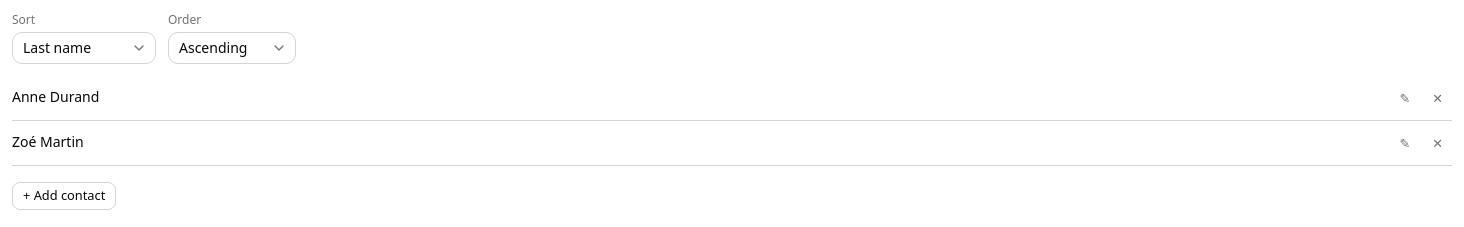
ContactsTab › sorting › re-sorts on a new field or order
Click the dropdown named "Order" at (232, 48), box x1=168 y1=32 x2=296 y2=64
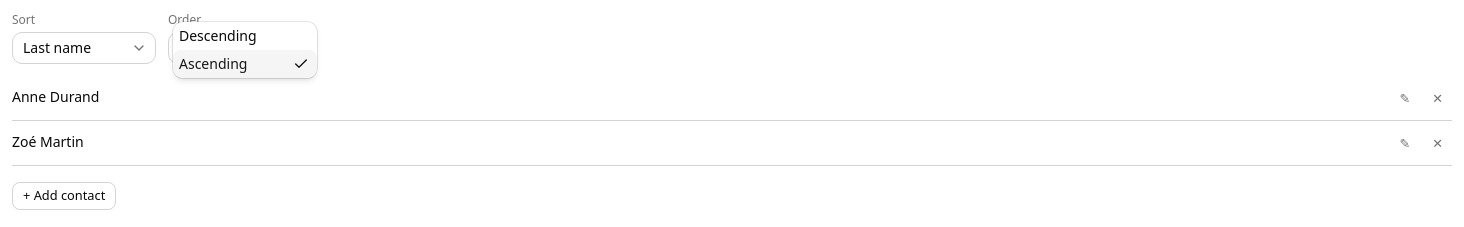
Click the option "Descending" at (218, 36), box x1=179 y1=26 x2=257 y2=45
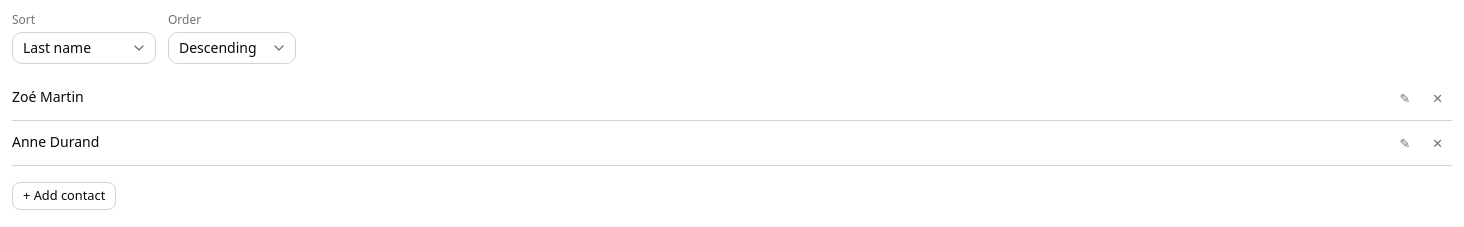
Click the dropdown named "Sort" at (84, 48), box x1=12 y1=32 x2=156 y2=64
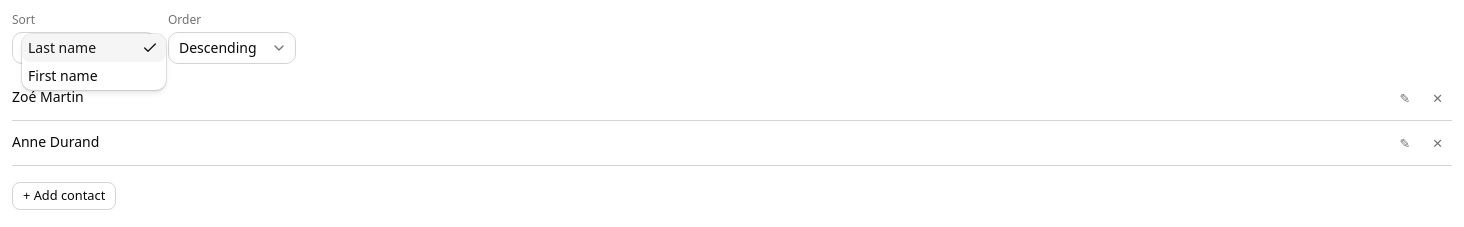
Click the option "First name" at (63, 76), box x1=28 y1=66 x2=98 y2=85
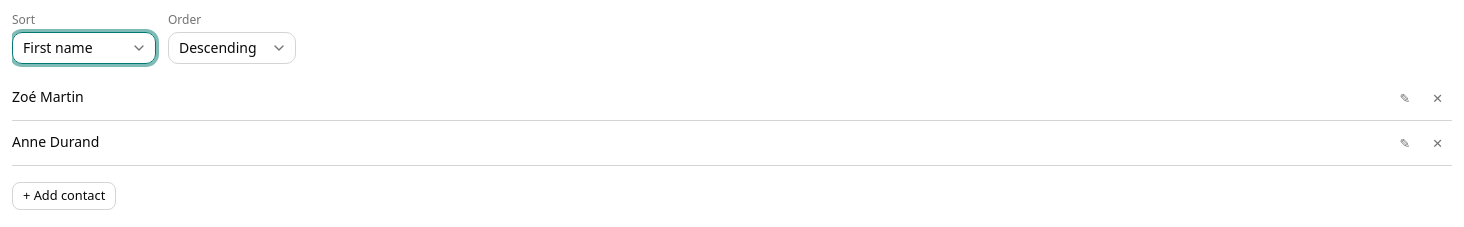
Check: the dropdown named "Sort" reads "First name", box x1=12 y1=32 x2=156 y2=64
